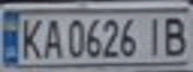0: (63, 16, 87, 58)
2: (100, 16, 124, 60)
6: (118, 15, 142, 58), (84, 16, 106, 60)
A: (39, 16, 66, 60)
B: (157, 14, 193, 57)
I: (139, 14, 169, 57)
K: (15, 15, 45, 61)
